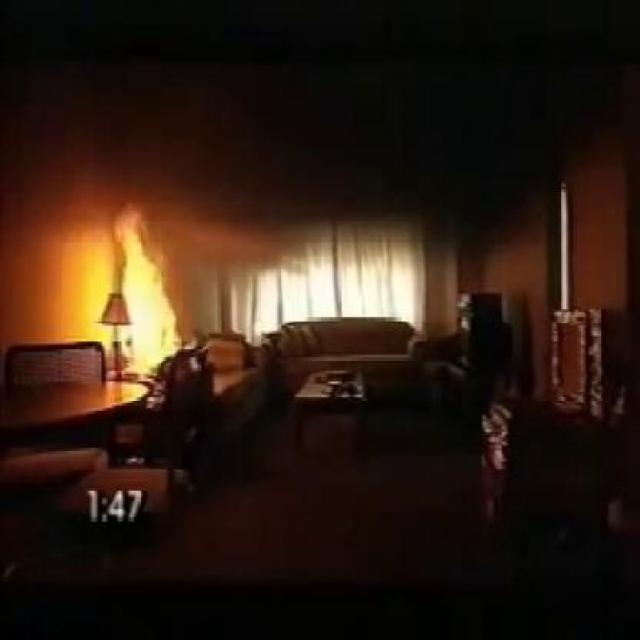fire: (94, 200, 180, 288), (131, 293, 184, 362)
